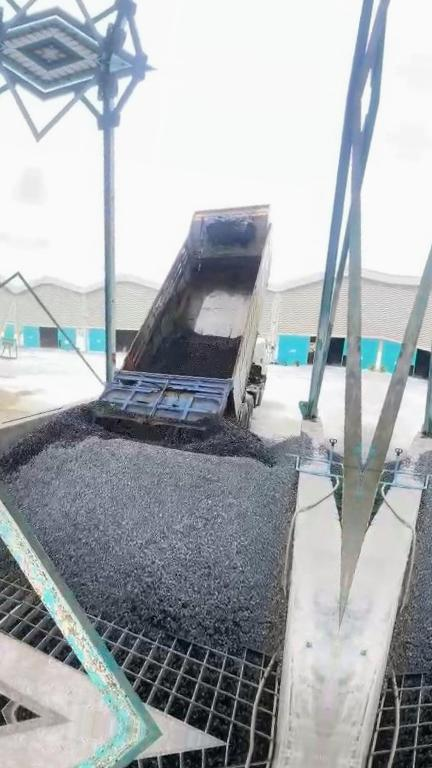gravel: (0, 400, 316, 653), (139, 327, 240, 377), (0, 518, 31, 588)
sand: (0, 388, 35, 428)
